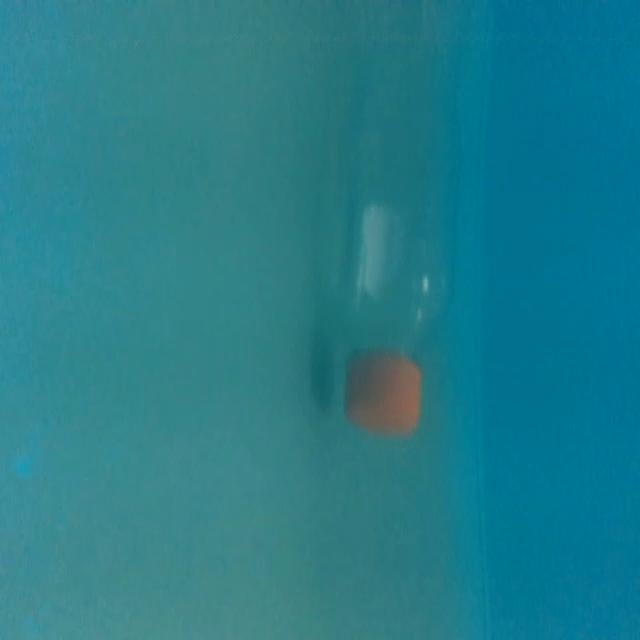plastic bottle: (315, 0, 480, 442)
